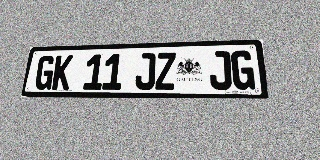1: (83, 54, 105, 90), (102, 54, 123, 90)
G: (231, 50, 255, 90), (34, 55, 56, 90)
J: (209, 51, 232, 90), (135, 53, 156, 90)
K: (51, 55, 73, 90)
Z: (155, 52, 176, 90)
